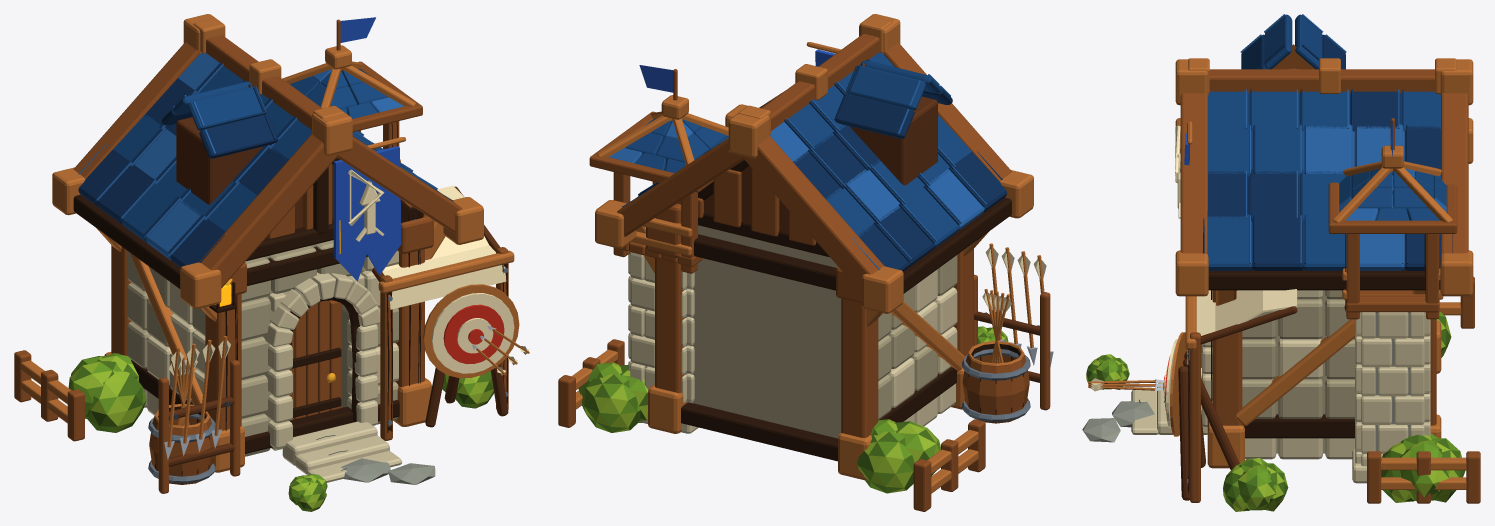
File: archery_range.glb
3 views of the same model, side by side, from view 1: azimuth 30°, elevation 25°; view 2: azimuth 150°, elevation 25°; view 3: azimuth 270°, elevation 25° (orthographic). The views are drawn at different scales.
Visible parts, largest first — view 1: Carved roof verge, Cloth heraldic banner, Linen work canopy, Carved roof verge.002, Dormer body, Carved roof verge.001, Corner upright, Ridge timber, Leaf cluster.004, Roof eave, Target ring.006, Corner upright.002 (+82 smaller); view 2: Cottage walls, Carved roof verge.001, Corner upright.001, Corner upright.003, Wall cross beam.001, Carved roof verge.003, Dormer body, Wall cross beam.003, Open barrel staves.001, Ridge timber, Leaf cluster.007, Leaf cluster.011 (+62 smaller); view 3: Ridge timber, Carved roof verge.002, Roof eave.001, Carved roof verge.003, Linen work canopy, Soft edged blue roof tile.037, Corner upright.002, Side wall diagonal.001, Soft edged blue roof tile.036, Soft edged blue roof tile.027, Soft edged blue roof tile.028, Soft edged blue roof tile.032 (+79 smaller).
Boxes of the visible parts, x1,y1,x2,y2 form: Carved roof verge: (199, 134, 338, 288); Cloth heraldic banner: (333, 146, 401, 280); Linen work canopy: (382, 185, 506, 309); Carved roof verge.002: (337, 136, 462, 233); Dormer body: (176, 117, 262, 204); Carved roof verge.001: (73, 42, 199, 178); Corner upright: (205, 294, 241, 430); Ridge timber: (206, 35, 322, 129); Leaf cluster.004: (87, 371, 146, 432); Roof eave: (73, 194, 180, 288); Target ring.006: (431, 293, 514, 373); Corner upright.002: (395, 201, 424, 387); Cottage walls: (690, 225, 841, 438); Carved roof verge.001: (743, 136, 884, 292); Corner upright.001: (841, 298, 878, 437); Corner upright.003: (655, 203, 685, 393); Wall cross beam.001: (681, 402, 837, 461); Carved roof verge.003: (617, 138, 744, 236); Dormer body: (850, 96, 937, 185); Wall cross beam.003: (694, 234, 836, 290); Open barrel staves.001: (962, 350, 1029, 423); Ridge timber: (734, 34, 879, 146); Leaf cluster.007: (856, 431, 914, 493); Leaf cluster.011: (582, 374, 640, 432); Ridge timber: (1209, 69, 1434, 93); Carved roof verge.002: (1180, 93, 1207, 253); Roof eave.001: (1208, 270, 1440, 290); Carved roof verge.003: (1441, 93, 1468, 253); Linen work canopy: (1187, 289, 1297, 364); Soft edged blue roof tile.037: (1252, 214, 1302, 270); Corner upright.002: (1212, 290, 1242, 425); Side wall diagonal.001: (1235, 319, 1354, 426); Soft edged blue roof tile.036: (1207, 214, 1252, 270); Soft edged blue roof tile.027: (1252, 124, 1302, 176); Soft edged blue roof tile.028: (1303, 124, 1353, 173); Soft edged blue roof tile.032: (1248, 169, 1298, 221).
Size of the model in its own units: 4.09 by 3.7 by 3.61.
